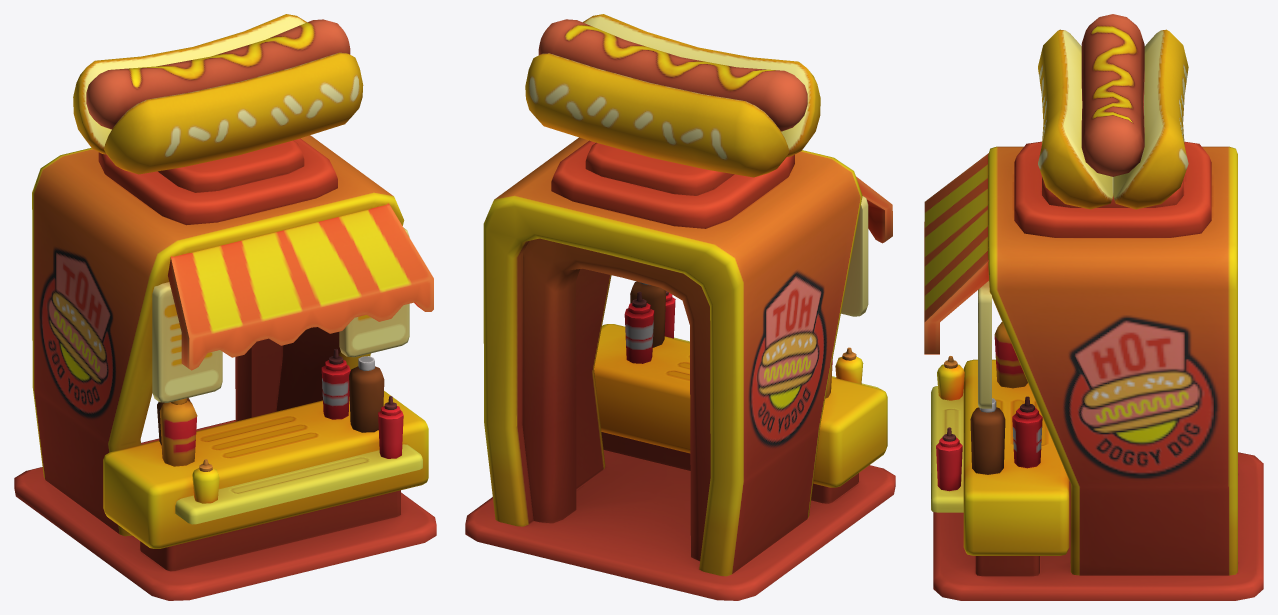
The model's file is Mesh_HotDog.FBX.
3 renders of one model, left to right at view 1: azimuth 30°, elevation 25°; view 2: azimuth 150°, elevation 25°; view 3: azimuth 270°, elevation 25°, orthographic.
Parts seen in each view (by area): view 1: Mesh_HotDog; view 2: Mesh_HotDog; view 3: Mesh_HotDog.
Part boxes in pixels (x1,y1,x2,y2): Mesh_HotDog: [14, 14, 436, 600]; Mesh_HotDog: [465, 14, 895, 600]; Mesh_HotDog: [924, 14, 1263, 600].
Bounding box in the file's own units: 2.46 × 3.81 × 2.53.
1 material, 1 textured.
